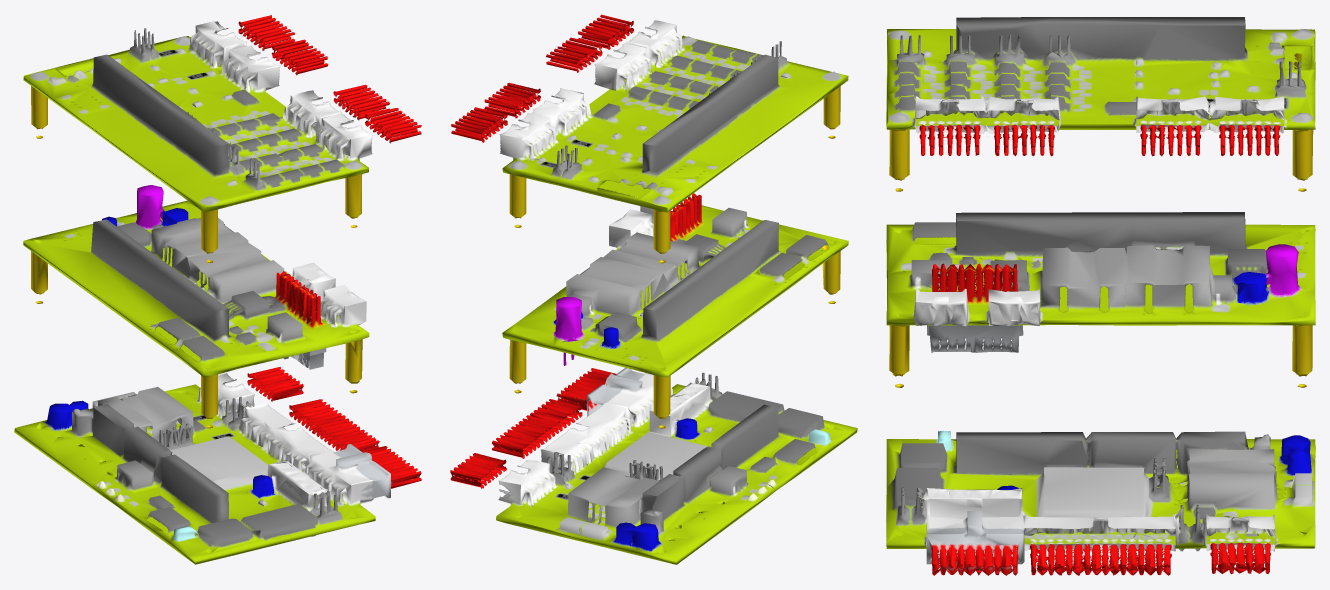
The model's file is Boards_test_LOD1.fbx.
The picture shows the model from 3 angles, left to right: view 1: azimuth 30°, elevation 25°; view 2: azimuth 150°, elevation 25°; view 3: azimuth 270°, elevation 25°; orthographic projection. The views are drawn at different scales.
Visible parts, largest first — view 1: Simplygon_Proxy_f58f9218-8066-49ed-ad44-5a6dfe905b22; view 2: Simplygon_Proxy_f58f9218-8066-49ed-ad44-5a6dfe905b22; view 3: Simplygon_Proxy_f58f9218-8066-49ed-ad44-5a6dfe905b22.
Boxes of the visible parts, box(x1,y1,x2,y2) form: Simplygon_Proxy_f58f9218-8066-49ed-ad44-5a6dfe905b22: box(14, 15, 421, 564); Simplygon_Proxy_f58f9218-8066-49ed-ad44-5a6dfe905b22: box(450, 14, 857, 564); Simplygon_Proxy_f58f9218-8066-49ed-ad44-5a6dfe905b22: box(886, 17, 1315, 575).
Bounding box in the file's own units: 9.52 × 14.82 × 12.09.
1 material, 1 textured.
